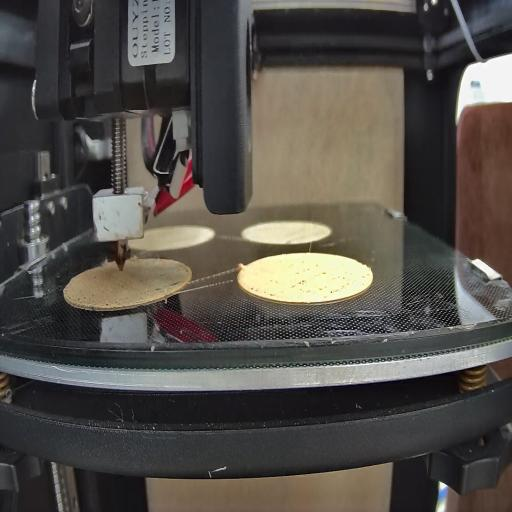under_extrusion: (292, 264, 356, 302), (66, 289, 116, 317), (150, 274, 184, 299), (249, 282, 281, 303)
